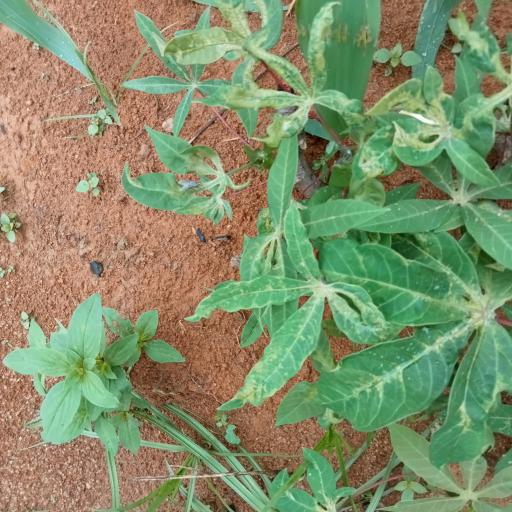Cassava_Mosaic: (318, 243, 512, 459), (200, 207, 358, 406), (189, 16, 355, 132)
